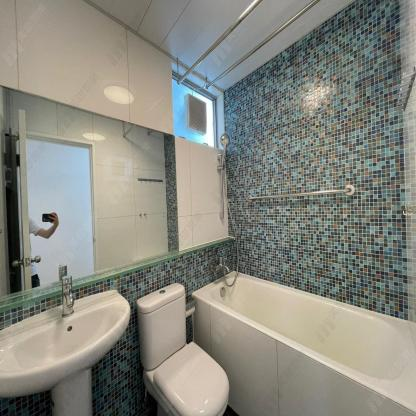Bathtub: (191, 270, 416, 416)
Exhaust Fan: (183, 94, 206, 135)
Toilet: (136, 281, 230, 416)
Toilet Sink: (0, 292, 130, 398)
